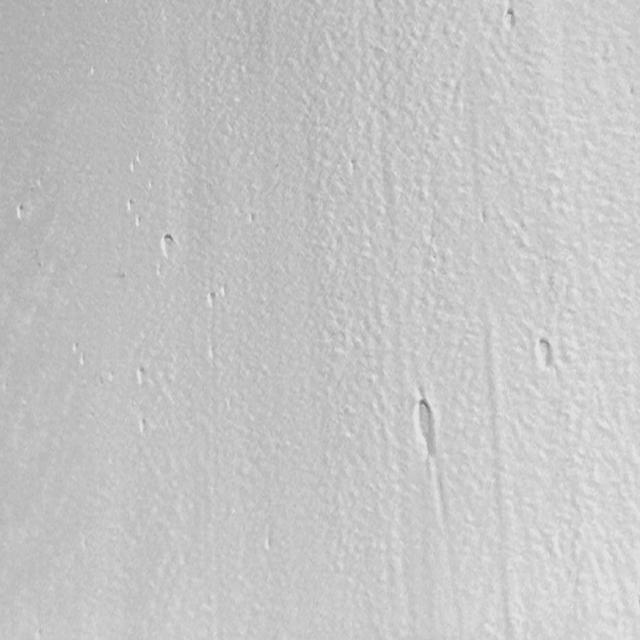pin holes: (410, 397, 441, 460), (531, 336, 556, 372), (160, 233, 180, 259), (501, 5, 520, 31), (132, 366, 147, 386), (13, 202, 28, 222), (134, 416, 148, 434), (205, 291, 218, 309), (129, 154, 141, 172), (71, 341, 82, 356), (132, 216, 142, 232), (124, 198, 134, 213)
